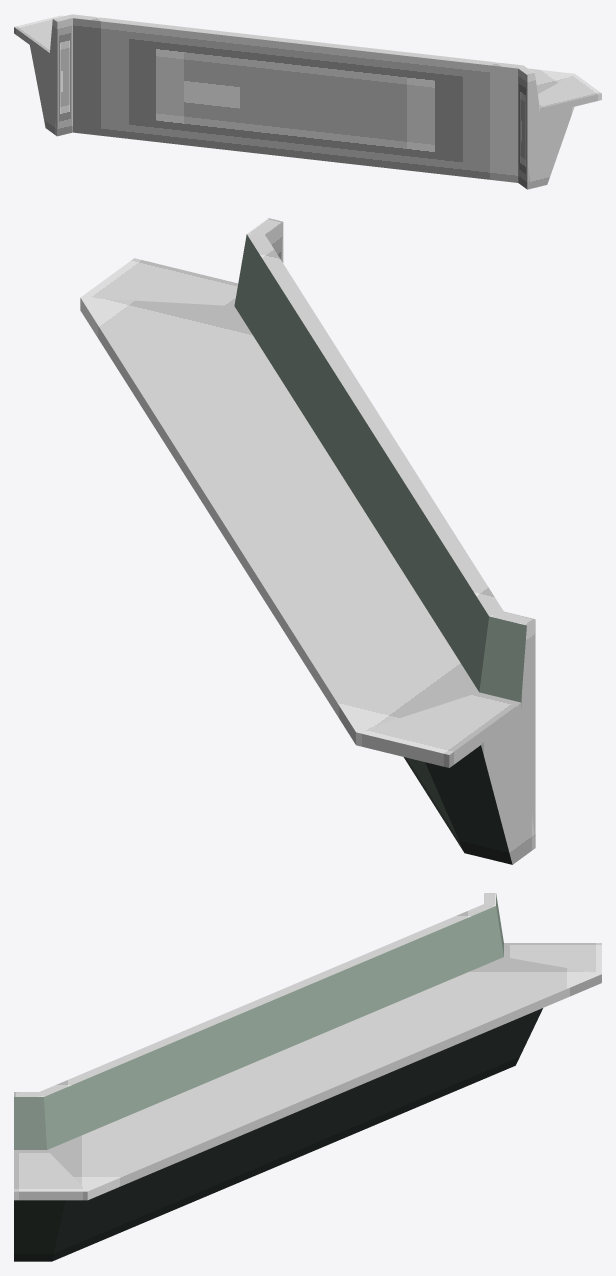
Rendered from desk_corner_outside_3_item.obj.
3 views of the same model, one above another, from view 1: azimuth 30°, elevation 25°; view 2: azimuth 150°, elevation 25°; view 3: azimuth 270°, elevation 25° (orthographic). The views are drawn at different scales.
Bounding box in the file's own units: 3.75 × 1.1 × 3.75.
